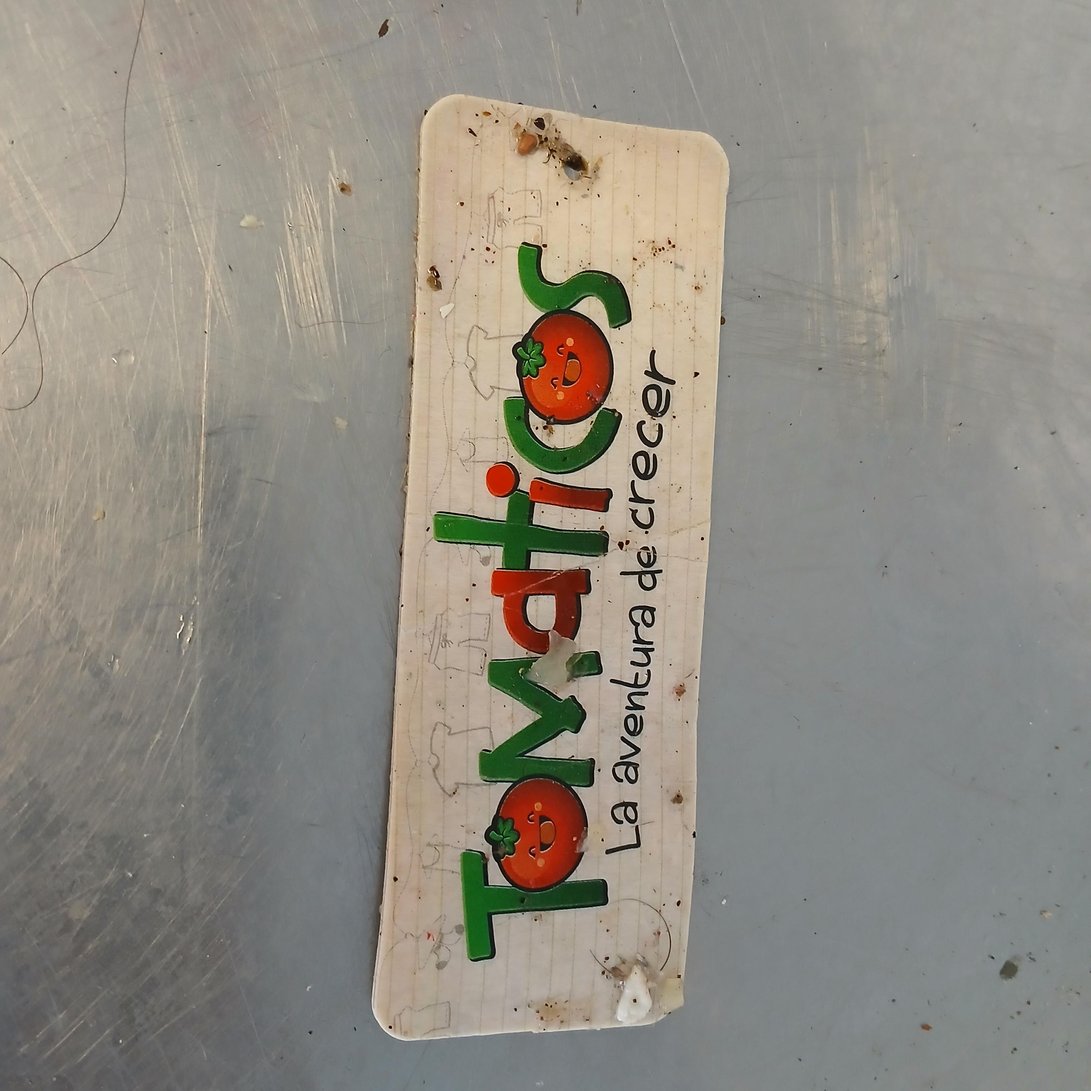Ordinario: (371, 91, 727, 1039)
